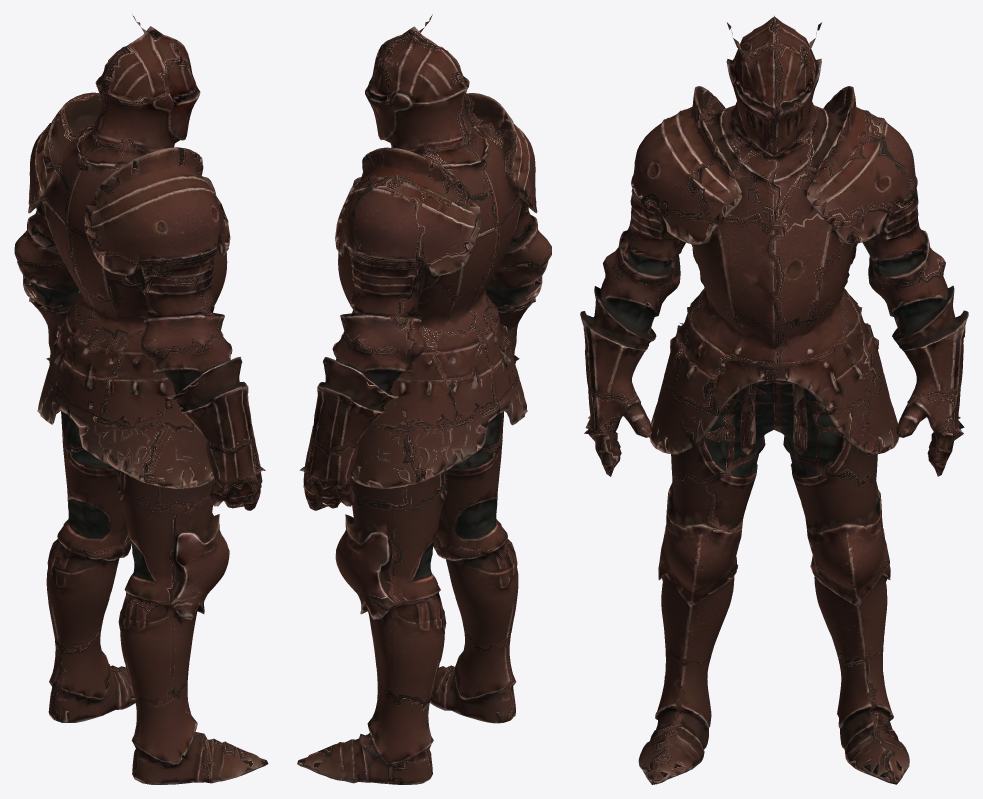
File: rustyArmour.glb
3 renders of one model, left to right at view 1: azimuth 30°, elevation 25°; view 2: azimuth 150°, elevation 25°; view 3: azimuth 270°, elevation 25°, orthographic. The views are drawn at different scales.
Parts seen in each view (by area): view 1: tripo_node_78fd963d_tripo_mat_78fd963d_0; view 2: tripo_node_78fd963d_tripo_mat_78fd963d_0; view 3: tripo_node_78fd963d_tripo_mat_78fd963d_0.
Boxes of the visible parts, <box> form: tripo_node_78fd963d_tripo_mat_78fd963d_0: <box>14,14,268,784</box>; tripo_node_78fd963d_tripo_mat_78fd963d_0: <box>297,14,551,784</box>; tripo_node_78fd963d_tripo_mat_78fd963d_0: <box>580,15,968,784</box>.
Size of the model in its own units: 0.2335 by 0.9996 by 0.4741.
1 material, 1 textured.
